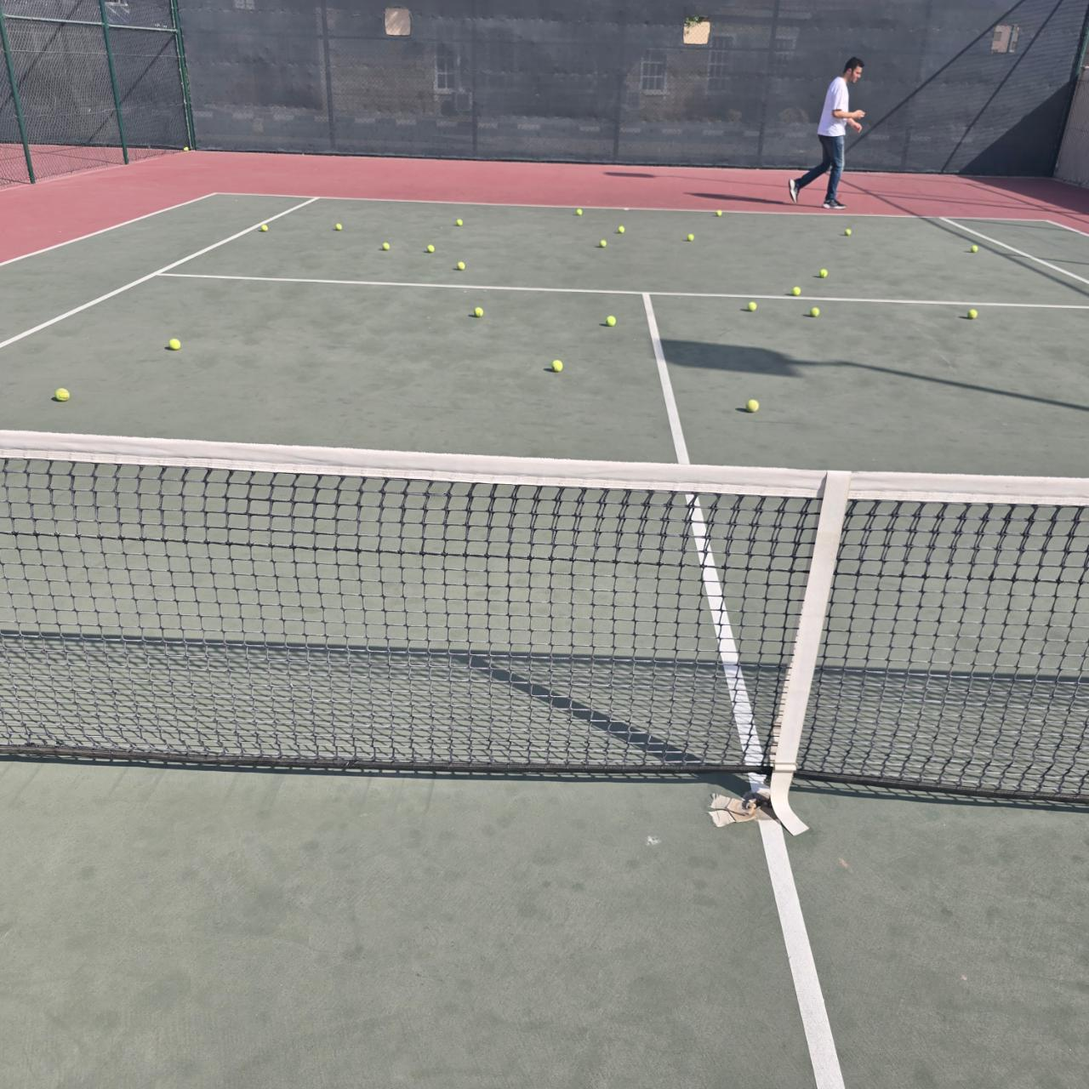tennis-ball: (55, 387, 70, 402), (746, 398, 759, 412), (551, 359, 563, 372), (169, 338, 181, 350), (605, 315, 616, 327), (967, 308, 977, 319), (747, 300, 757, 311), (810, 306, 820, 317), (791, 286, 801, 296), (474, 307, 483, 318), (457, 261, 466, 271), (819, 268, 828, 278), (382, 242, 390, 251), (427, 244, 435, 253), (599, 239, 607, 248), (335, 223, 343, 231), (687, 233, 695, 241), (970, 245, 978, 253), (456, 218, 463, 227), (261, 224, 268, 232), (844, 228, 851, 236), (618, 225, 625, 233), (716, 210, 723, 217), (576, 208, 583, 215), (183, 146, 189, 152)
